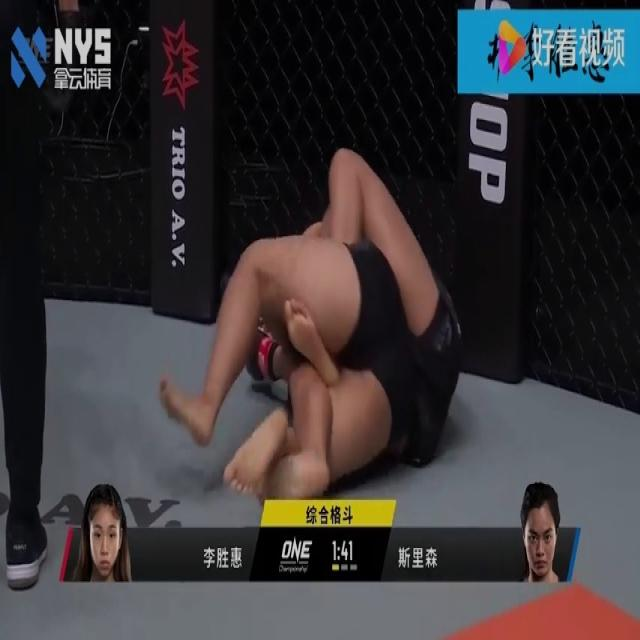fight: (147, 129, 495, 532)
